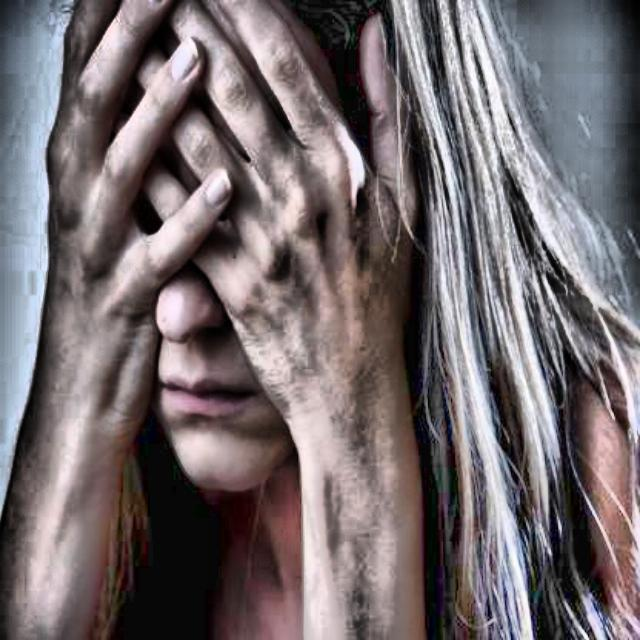sad: (61, 7, 487, 507)
